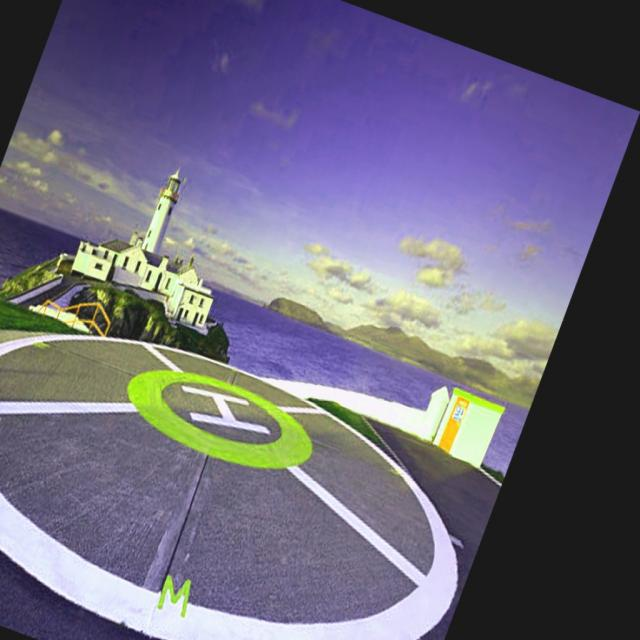helipad: (124, 365, 316, 471)
